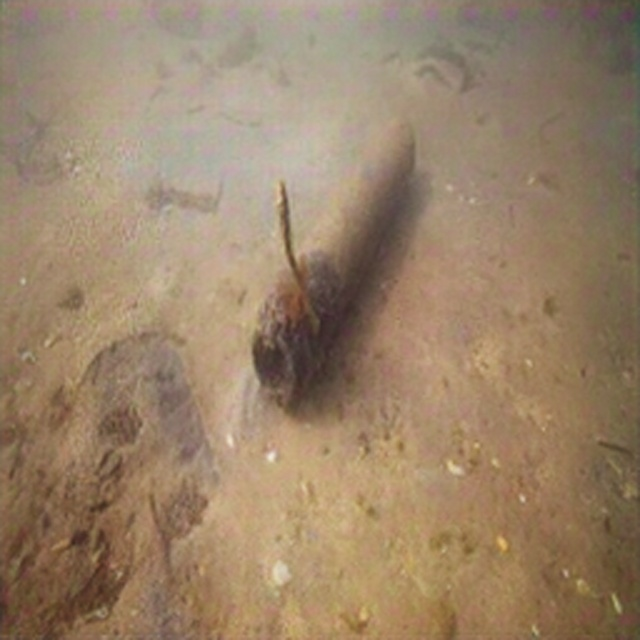mine: (249, 112, 416, 405)
